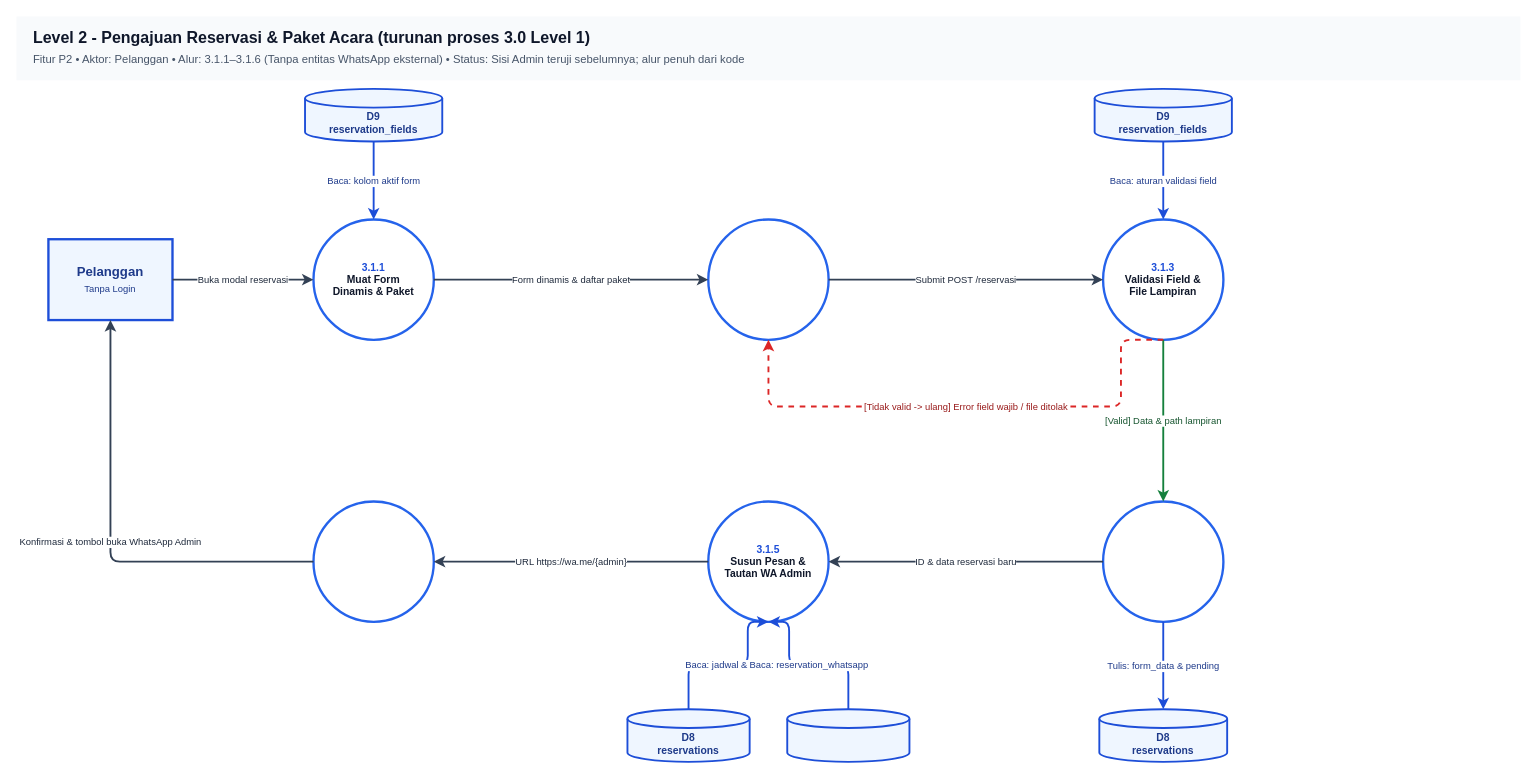
This 1536x778 diagram has some shape labels left out. The centre of each missing label's shape, as x and y in pixels:
"3.1.2 Isi Data Reservasi & Lampiran" belongs at (x=768, y=279).
"3.1.4 Simpan Lampiran & Data Reservasi" belongs at (x=1162, y=561).
"3.1.6 Tampilkan Konfirmasi & Tautan WA" belongs at (x=373, y=561).
"D16 settings" belongs at (x=848, y=735).
